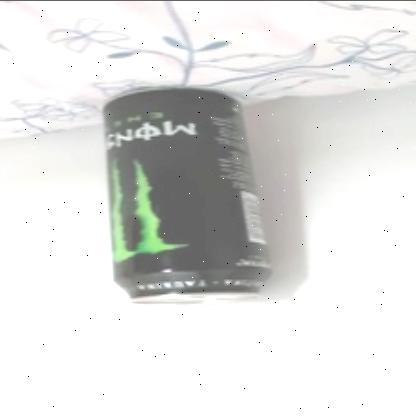Can: (102, 87, 274, 305)
